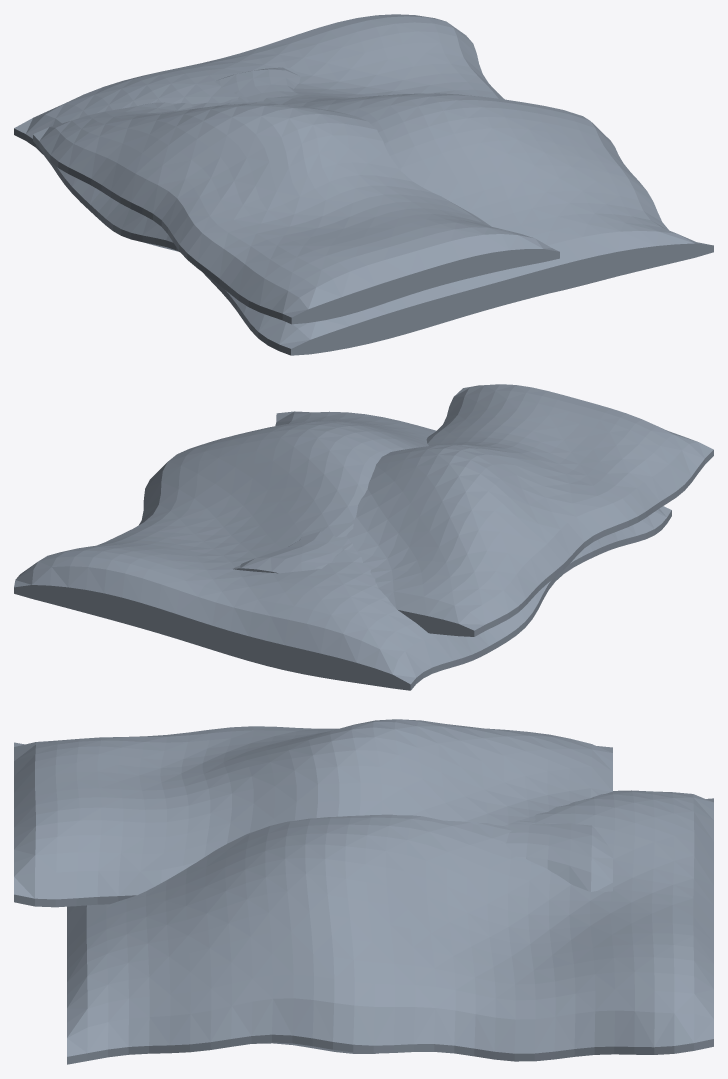
Rendered from storm_rear_anvil.glb.
3 renders of one model, top to bottom at view 1: azimuth 30°, elevation 25°; view 2: azimuth 150°, elevation 25°; view 3: azimuth 270°, elevation 25°, orthographic. The views are drawn at different scales.
Parts seen in each view (by area): view 1: Rear elevated anvil sheet, Upper interlocking cloud ridge; view 2: Rear elevated anvil sheet, Upper interlocking cloud ridge; view 3: Rear elevated anvil sheet, Upper interlocking cloud ridge.
Boxes of the visible parts, bbox=[...] form: Rear elevated anvil sheet: bbox=[14, 14, 713, 355]; Upper interlocking cloud ridge: bbox=[33, 67, 559, 324]; Rear elevated anvil sheet: bbox=[14, 411, 671, 690]; Upper interlocking cloud ridge: bbox=[232, 384, 713, 636]; Rear elevated anvil sheet: bbox=[67, 790, 713, 1064]; Upper interlocking cloud ridge: bbox=[14, 719, 612, 907].
Size of the model in its own units: 2626 by 825 by 2910.
